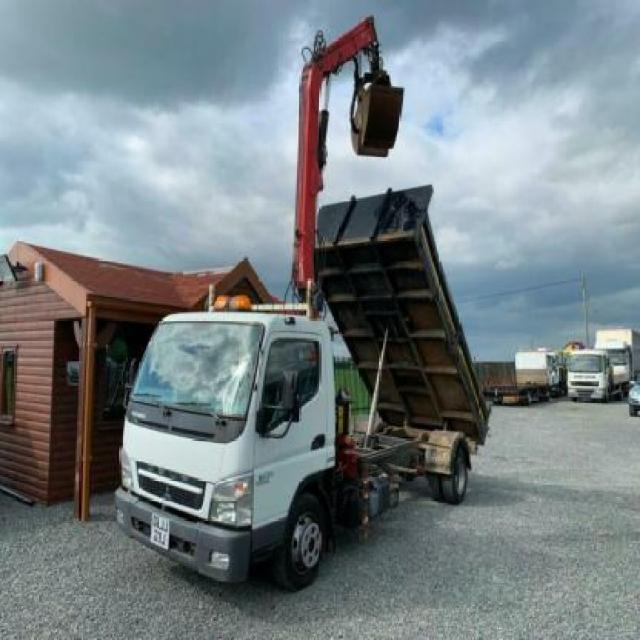truck: (118, 183, 492, 591)
